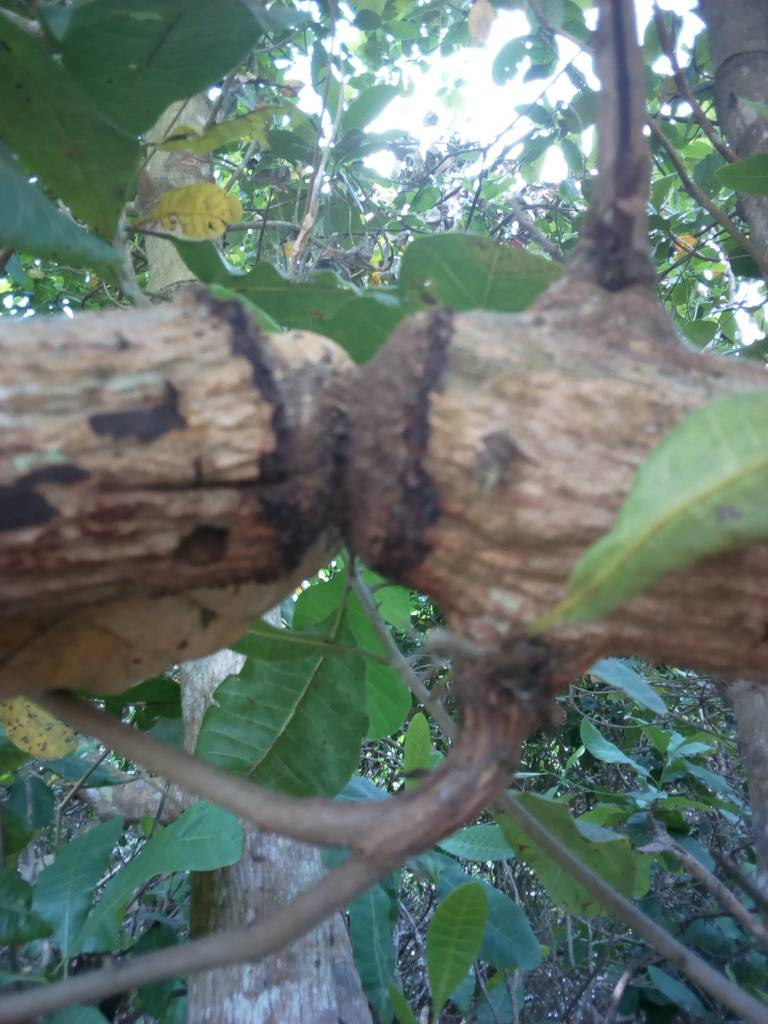Analepse trifasciata: (191, 285, 471, 585)
